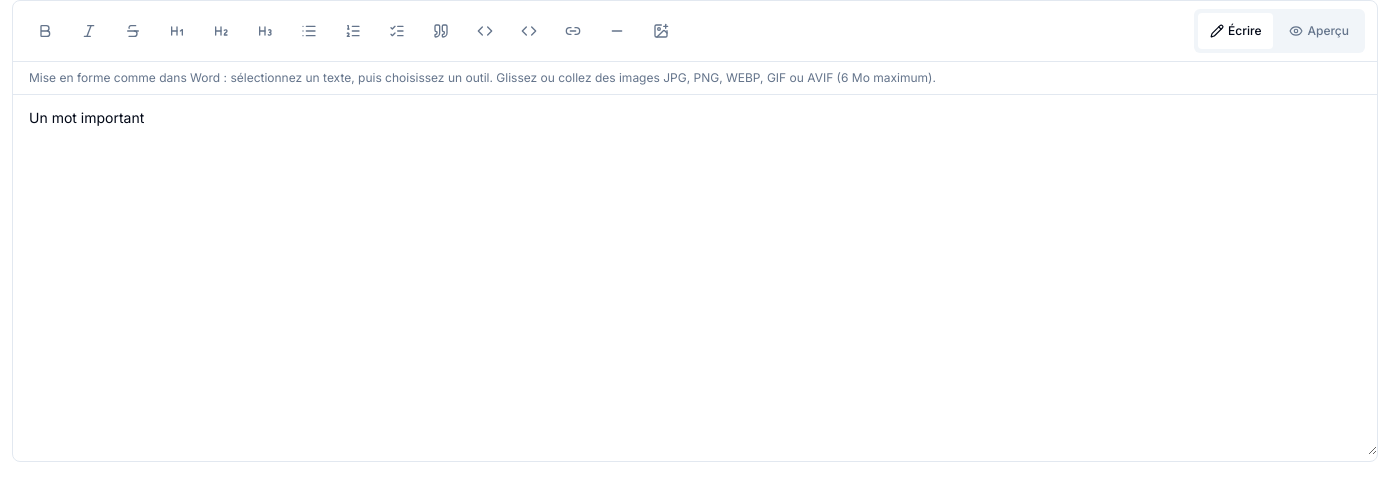
Test case: ContentEditor › formats selected text from the toolbar
Click the button named "Gras (Ctrl+B)" at point(45, 31), box [25,11,65,51]
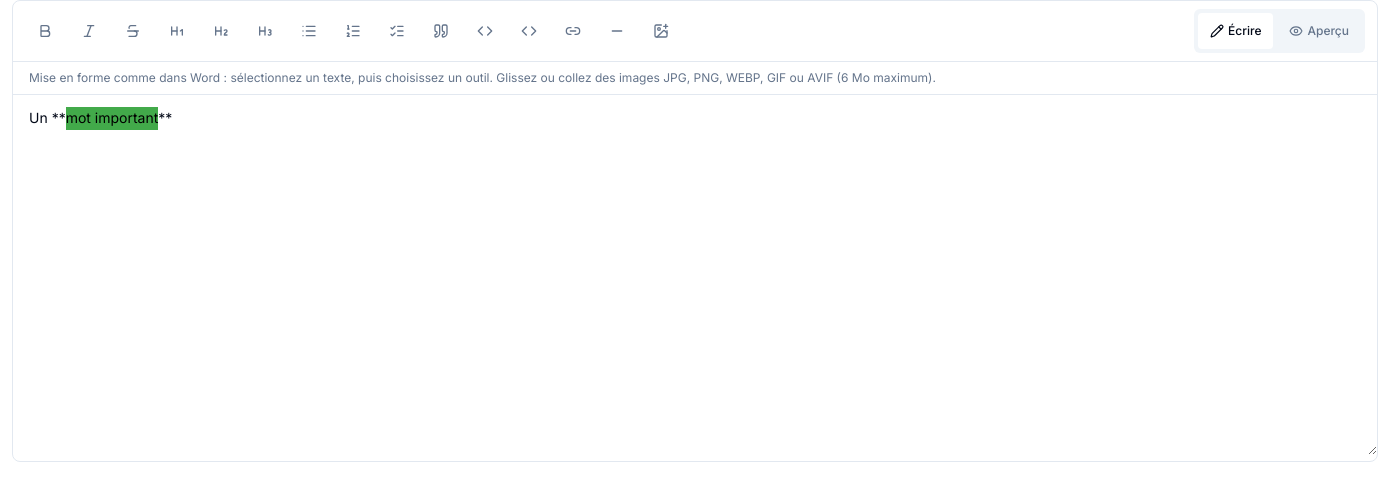
Expected: the text box named "Contenu de la publication" holds "Un **mot important**"
